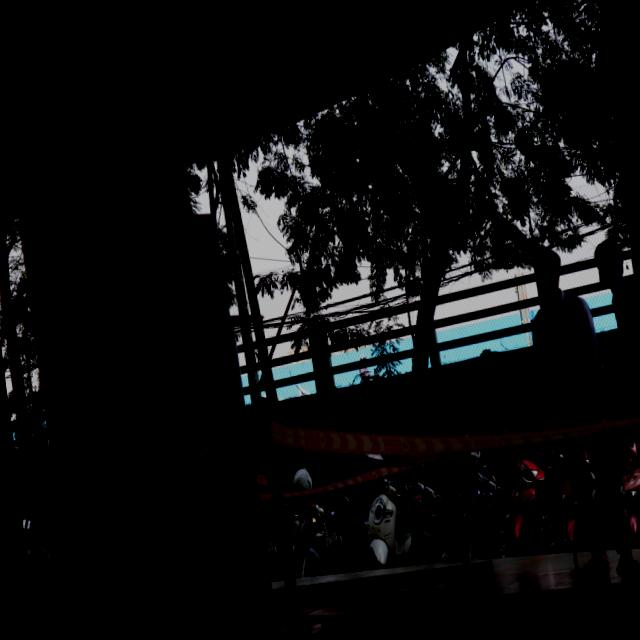pole: (151, 211, 270, 407)
